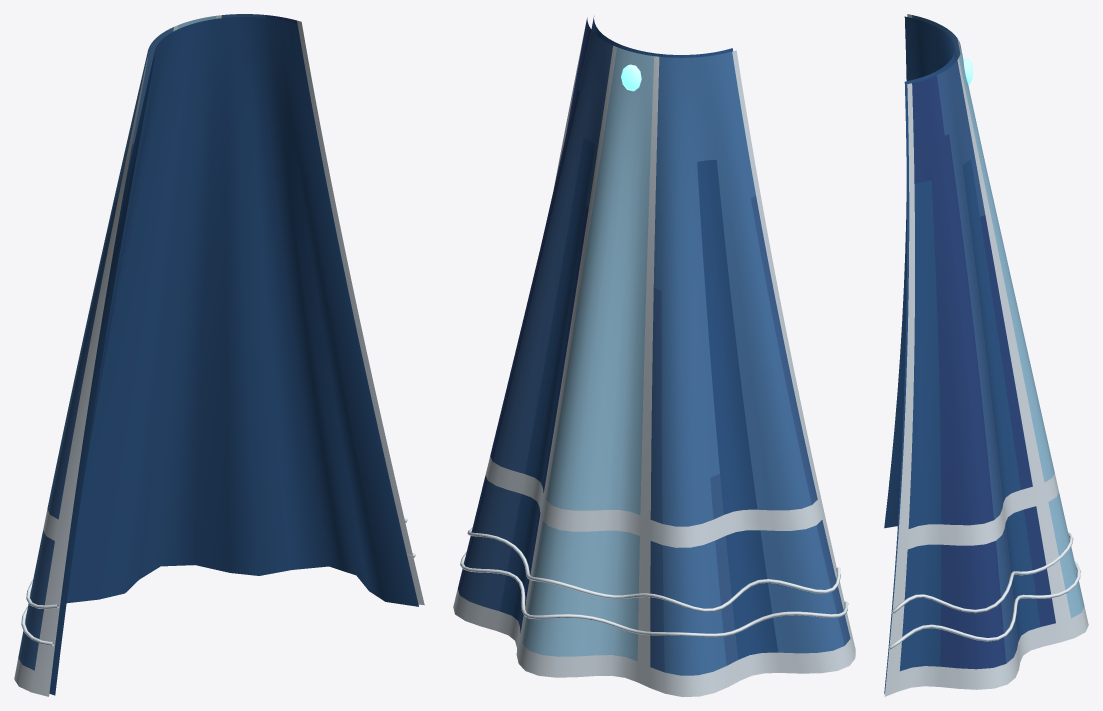
File: c_dragonknight_ice.glb
3 renders of one model, left to right at view 1: azimuth 30°, elevation 25°; view 2: azimuth 150°, elevation 25°; view 3: azimuth 270°, elevation 25°, orthographic. The views are drawn at different scales.
Parts seen in each view (by area): view 1: ClothMesh; view 2: ClothMesh; view 3: ClothMesh.
Part boxes in pixels (<box>): ClothMesh: <box>14,14,424,696</box>; ClothMesh: <box>453,16,855,696</box>; ClothMesh: <box>884,14,1088,696</box>.
Bounding box in the file's own units: 0.7823 × 1.16 × 0.3826.
